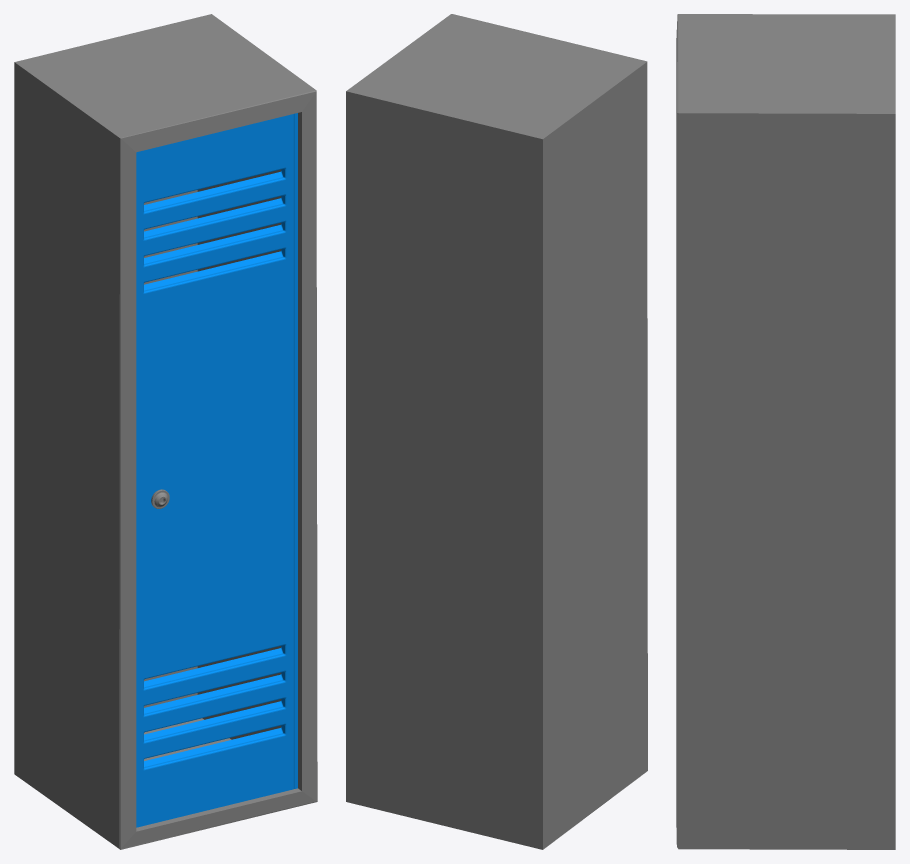
The model's file is Locker7.fbx.
3 renders of one model, left to right at view 1: azimuth 30°, elevation 25°; view 2: azimuth 150°, elevation 25°; view 3: azimuth 270°, elevation 25°, orthographic. The views are drawn at different scales.
Visible parts, largest first — view 1: Cube, Circle.005; view 2: Cube; view 3: Cube.
Boxes of the visible parts, box(x1,y1,x2,y2) form: Cube: box(14, 14, 317, 849); Circle.005: box(136, 113, 297, 827); Cube: box(346, 14, 647, 849); Cube: box(676, 14, 895, 849).
Bounding box in the file's own units: 219 × 753 × 203.
